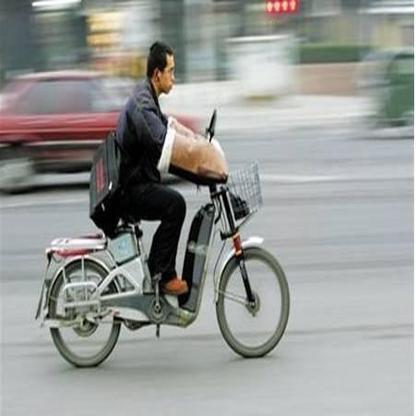target: (34, 38, 290, 372)
